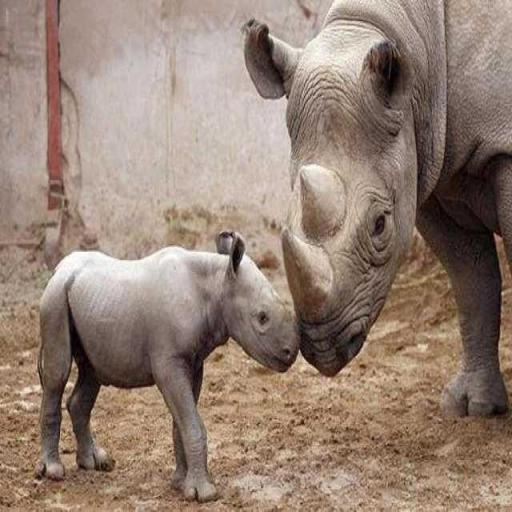Rhino: (240, 0, 511, 419), (34, 228, 301, 502)
